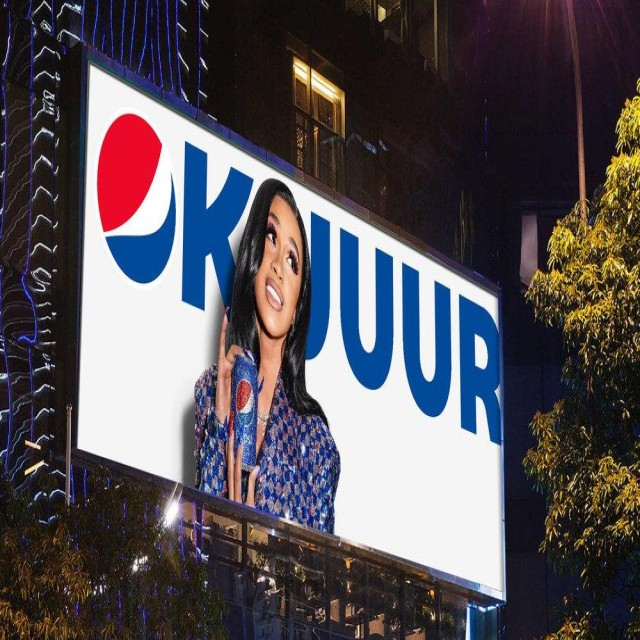pepsi: (99, 112, 177, 283)
